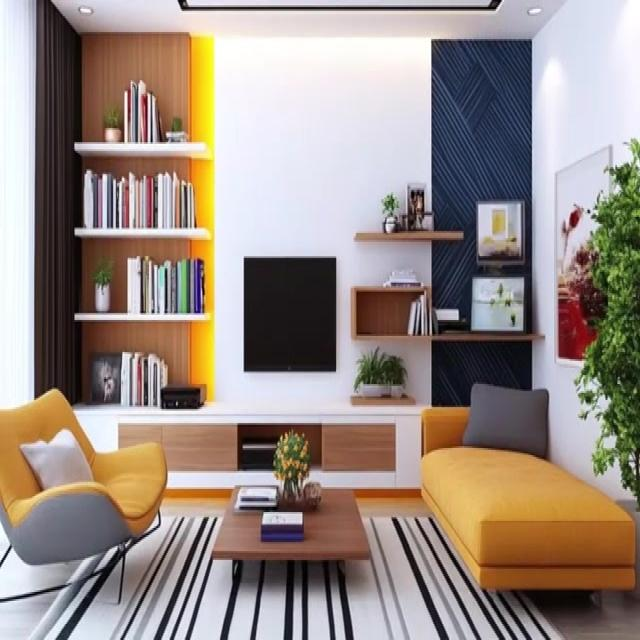obstacle: (419, 380, 636, 610), (0, 386, 167, 606), (211, 484, 370, 580)
